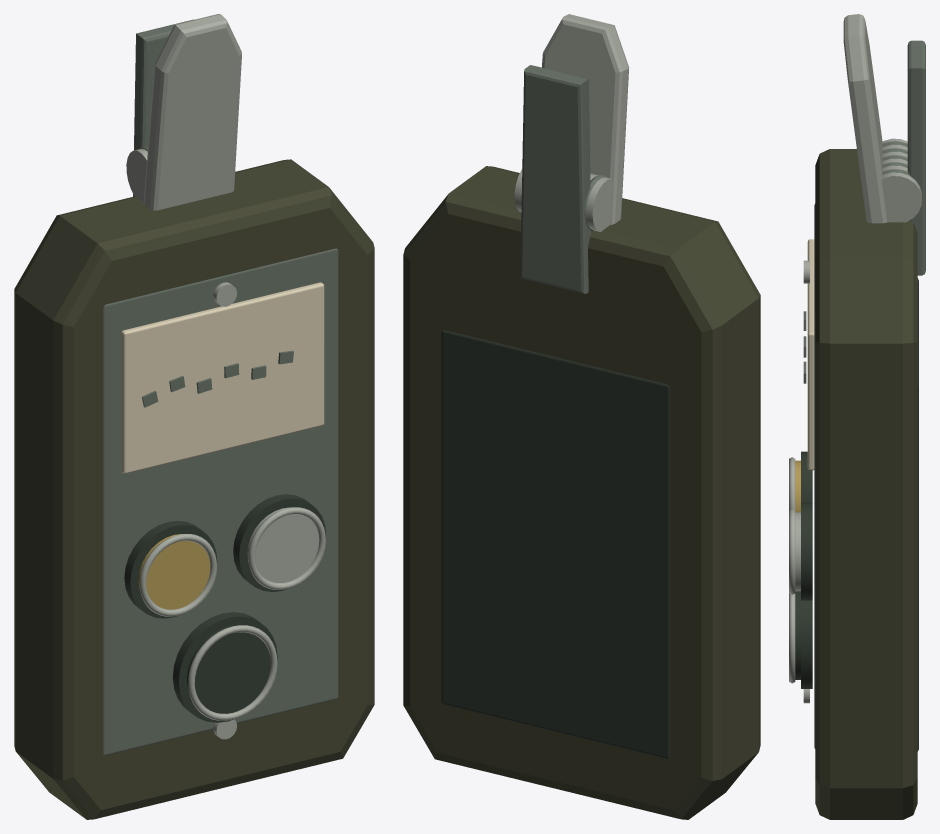
The model's file is badge.glb.
3 renders of one model, left to right at view 1: azimuth 30°, elevation 25°; view 2: azimuth 150°, elevation 25°; view 3: azimuth 270°, elevation 25°, orthographic. The views are drawn at different scales.
Visible parts, largest first — view 1: badge; view 2: badge; view 3: badge.
Boxes of the visible parts, <box> form: badge: <box>14,14,374,819</box>; badge: <box>403,14,760,819</box>; badge: <box>789,14,925,819</box>.
Bounding box in the file's own units: 0.588 × 1.33 × 0.2247.
